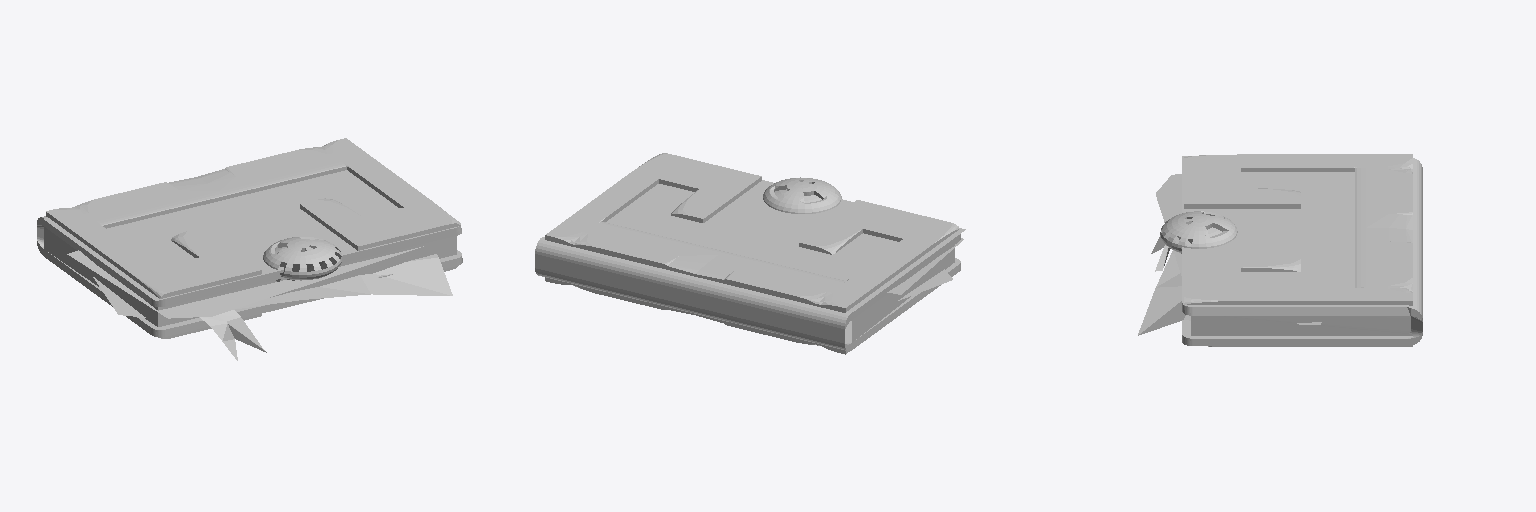
The model's file is book2.obj.
The picture shows the model from 3 angles: view 1: azimuth 30°, elevation 25°; view 2: azimuth 150°, elevation 25°; view 3: azimuth 270°, elevation 25°; orthographic projection.
Visible parts, largest first — view 1: Sphere_Sphere; view 2: Sphere_Sphere; view 3: Sphere_Sphere.
Part boxes in pixels (x1,y1,x2,y2): Sphere_Sphere: (37, 138, 462, 360); Sphere_Sphere: (535, 153, 965, 354); Sphere_Sphere: (1138, 154, 1422, 346).
Bounding box in the file's own units: 206 × 48.52 × 157.